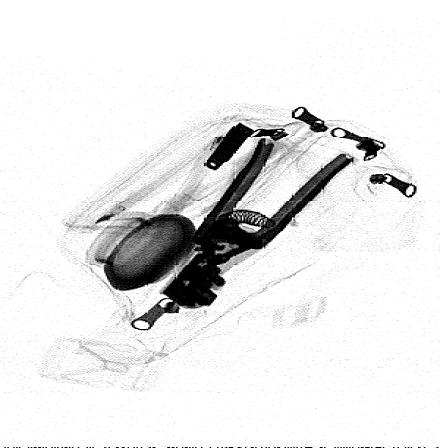Pliers: (161, 136, 354, 311)
